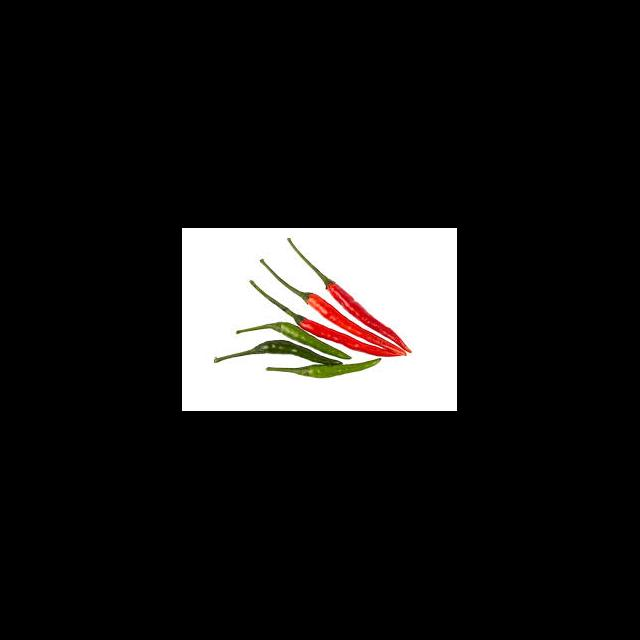chili_pepper: (324, 280, 412, 352), (264, 358, 384, 380), (280, 321, 350, 358)
